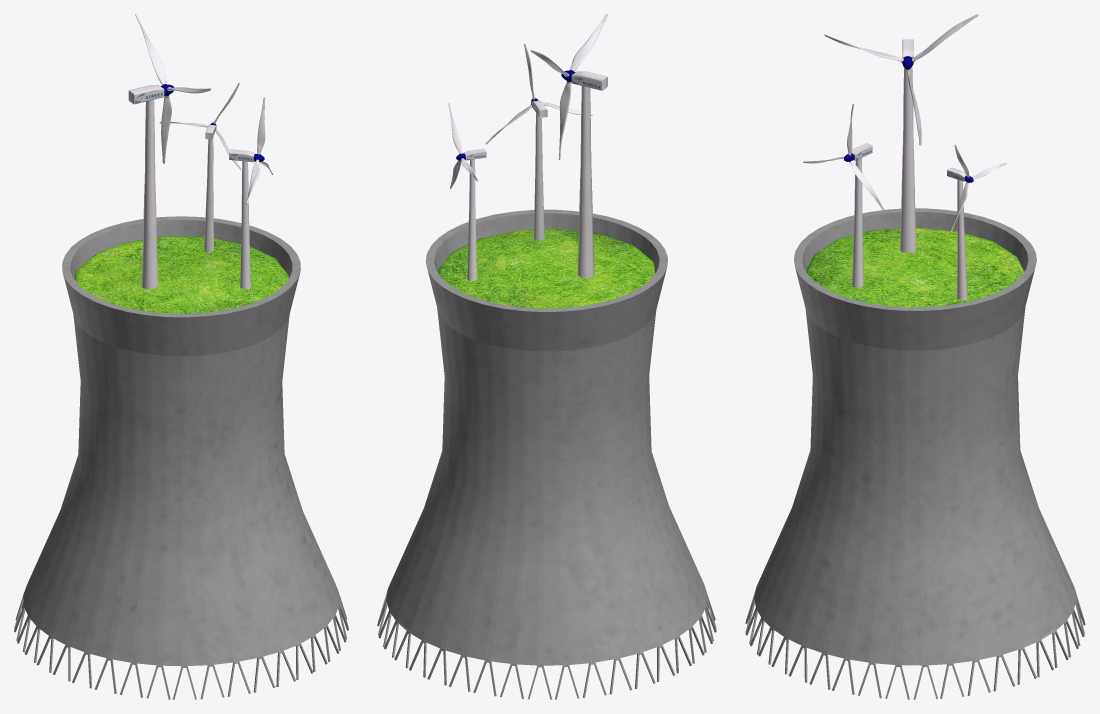
The model's file is Potted_Power_Plant.fbx.
3 views of the same model, side by side, from view 1: azimuth 30°, elevation 25°; view 2: azimuth 150°, elevation 25°; view 3: azimuth 270°, elevation 25° (orthographic).
Parts seen in each view (by area): view 1: Windmill_Blade9; view 2: Windmill_Blade9; view 3: Windmill_Blade9.
Boxes of the visible parts, x1,y1,x2,y2 form: Windmill_Blade9: (14,14,348,699); Windmill_Blade9: (377,14,716,699); Windmill_Blade9: (745,14,1085,699).
Bounding box in the file's own units: 14.76 × 29.04 × 14.74.
